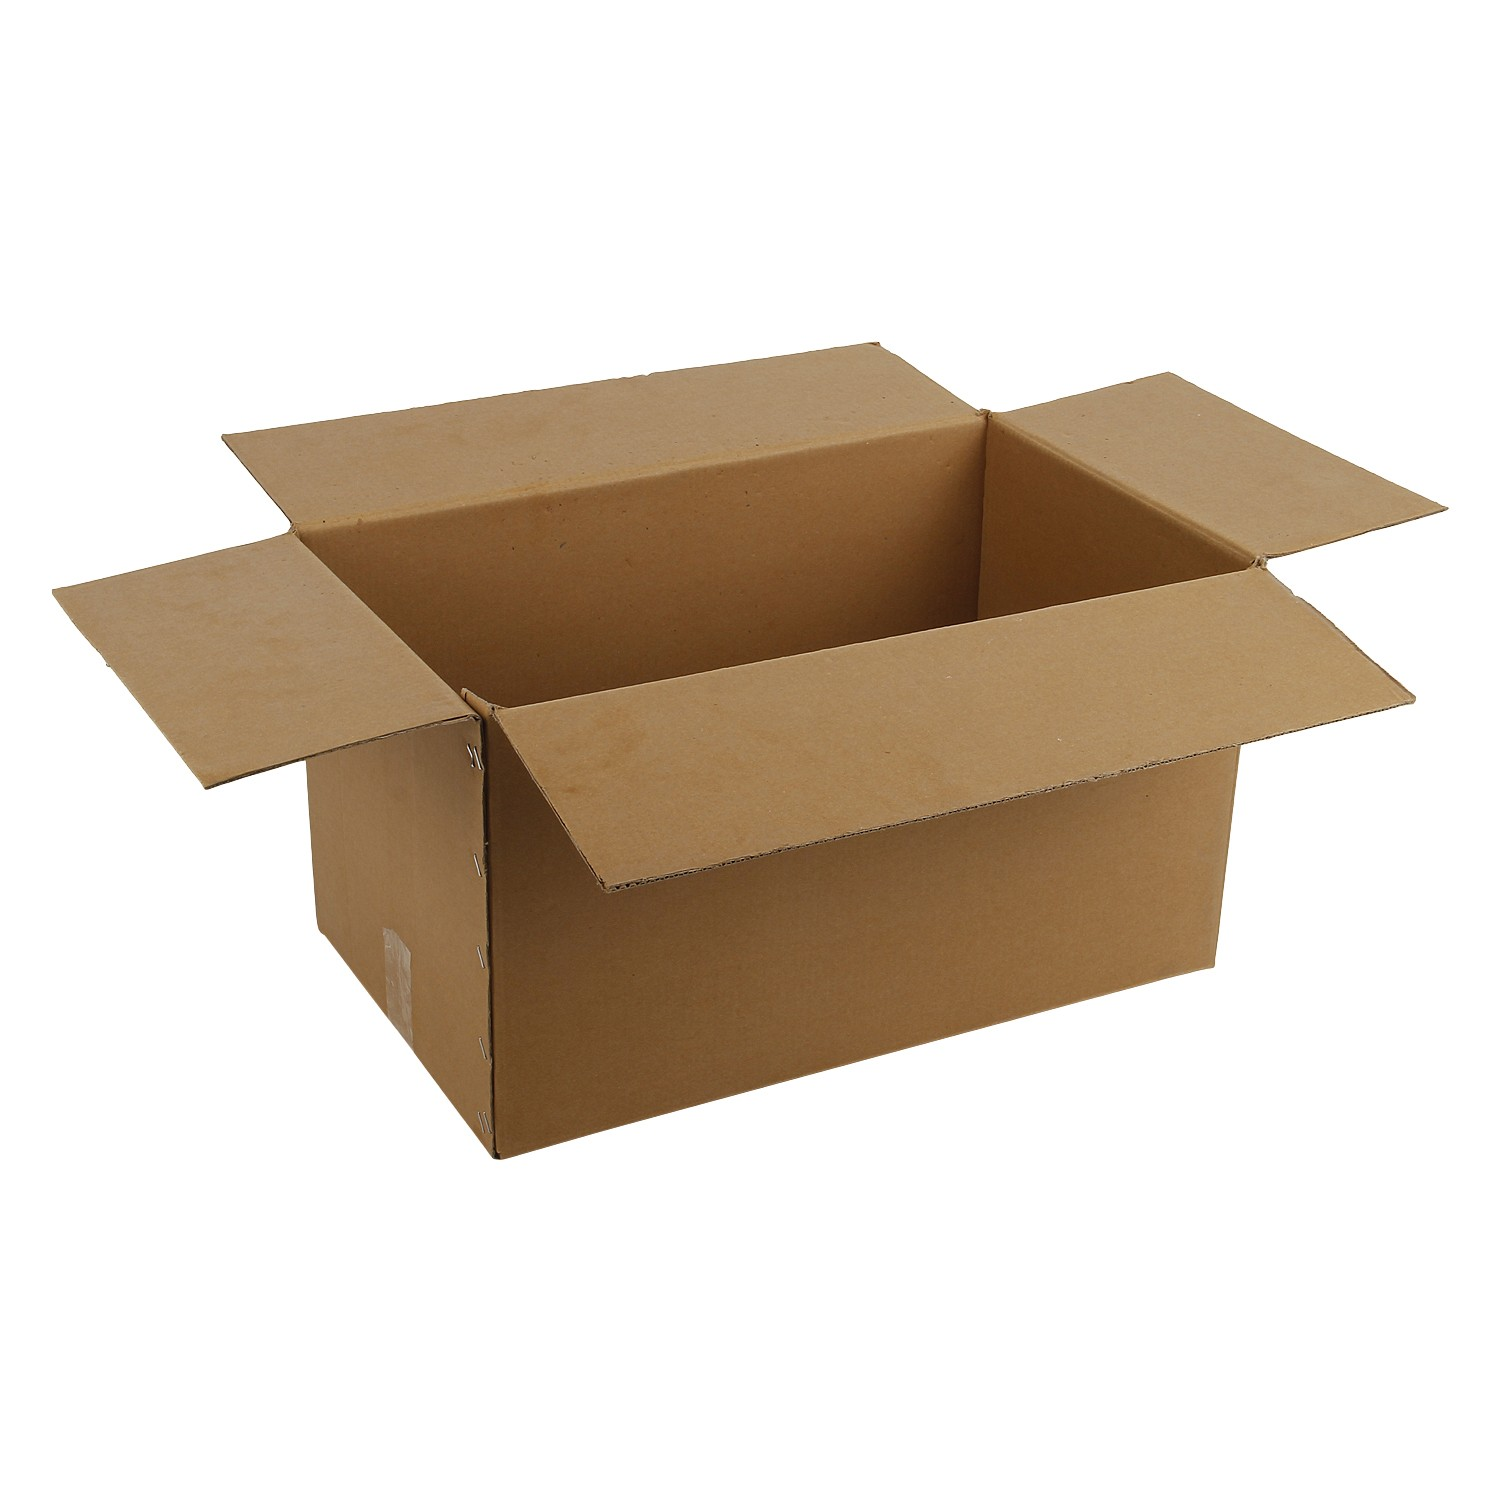Rec_Paper: (59, 262, 1493, 1231)
